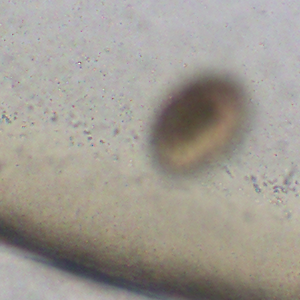Fasciola_hepatica_egg: (148, 71, 251, 175)
